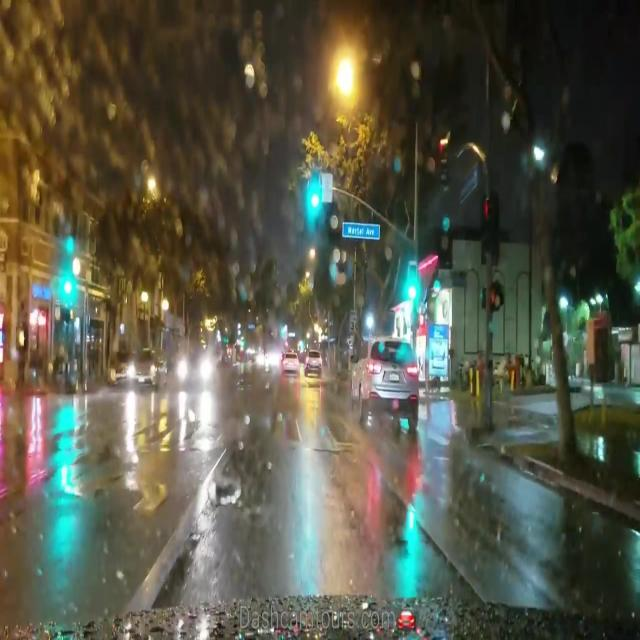Car: (348, 338, 417, 429), (178, 346, 217, 395), (125, 349, 157, 387), (304, 347, 321, 381), (281, 349, 298, 380)
